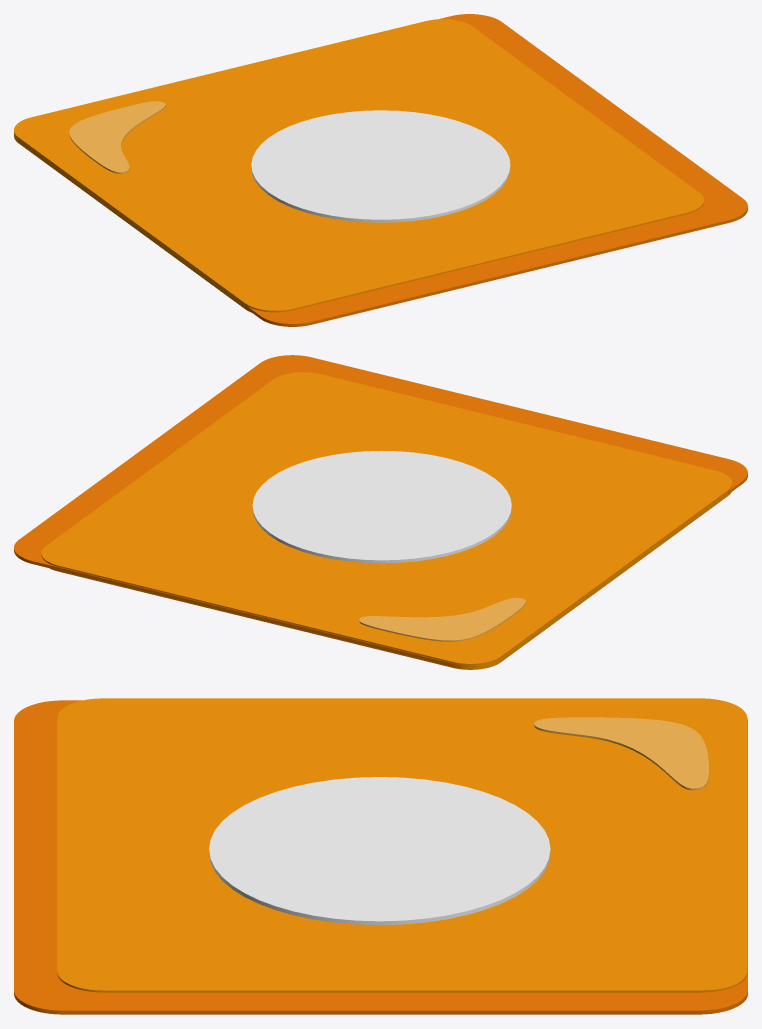
Rendered from emoji_u23fa.glb.
3 views of the same model, one above another, from view 1: azimuth 30°, elevation 25°; view 2: azimuth 150°, elevation 25°; view 3: azimuth 270°, elevation 25° (orthographic). The views are drawn at different scales.
Visible parts, largest first — view 1: emoji_u23fa; view 2: emoji_u23fa; view 3: emoji_u23fa.
Part boxes in pixels (x1,y1,x2,y2): emoji_u23fa: (14, 14, 747, 326); emoji_u23fa: (14, 355, 747, 669); emoji_u23fa: (14, 698, 747, 1014).
Bounding box in the file's own units: 0.0339 × 0.0008 × 0.0339.
